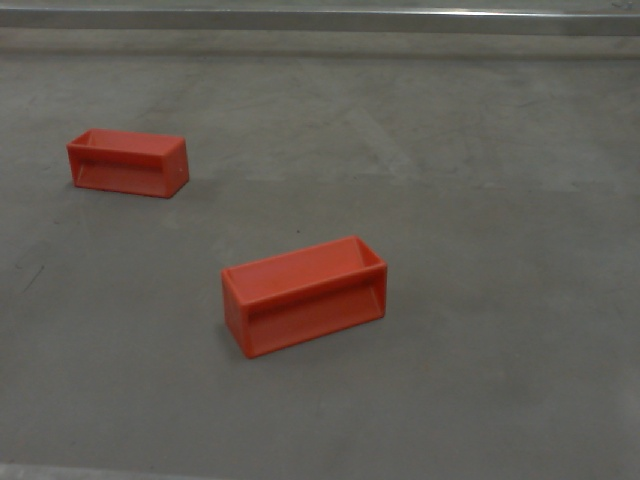RedSample: (217, 233, 388, 363), (64, 124, 190, 200)
